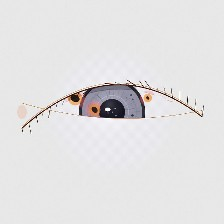foreign_body_visible: (77, 96, 112, 124)
